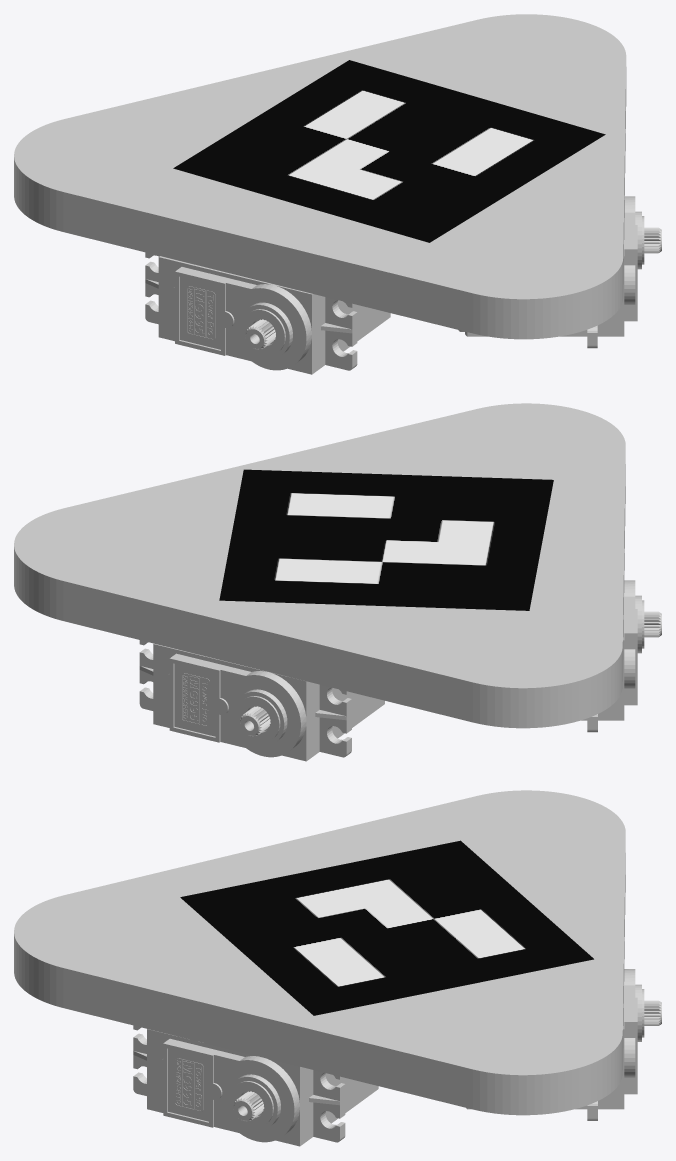
The model's file is bot_3.dae.
3 views of the same model, one above another, from view 1: azimuth 30°, elevation 25°; view 2: azimuth 150°, elevation 25°; view 3: azimuth 270°, elevation 25° (orthographic).
Visible parts, largest first — view 1: base, Plane; view 2: base, Plane; view 3: base, Plane.
Part boxes in pixels (left/top/right/bottom): base: left=14, top=14, right=661, bottom=374; Plane: left=173, top=60, right=605, bottom=242; base: left=14, top=403, right=661, bottom=761; Plane: left=219, top=469, right=553, bottom=610; base: left=14, top=790, right=661, bottom=1146; Plane: left=180, top=840, right=593, bottom=1015.
Bounding box in the file's own units: 152 × 147 × 31.41.
2 materials, 1 textured.
